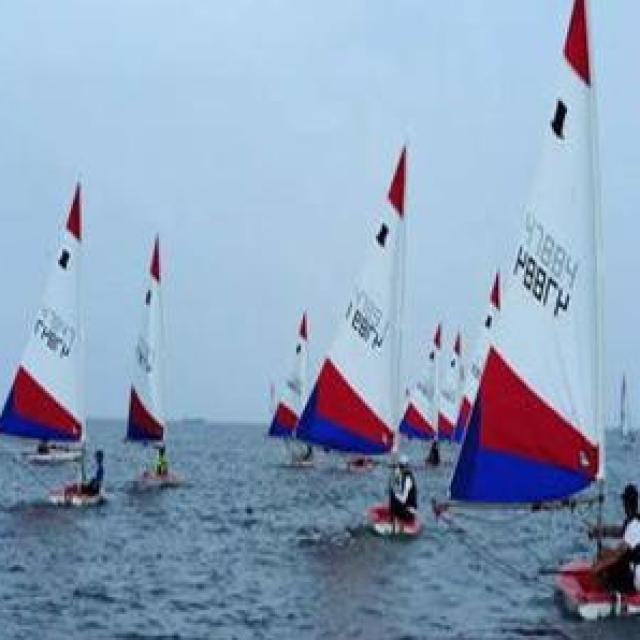sailboat: (457, 0, 640, 610), (314, 141, 438, 527), (0, 163, 110, 509), (117, 218, 189, 488), (255, 305, 328, 468), (400, 325, 449, 466), (435, 314, 473, 457)
